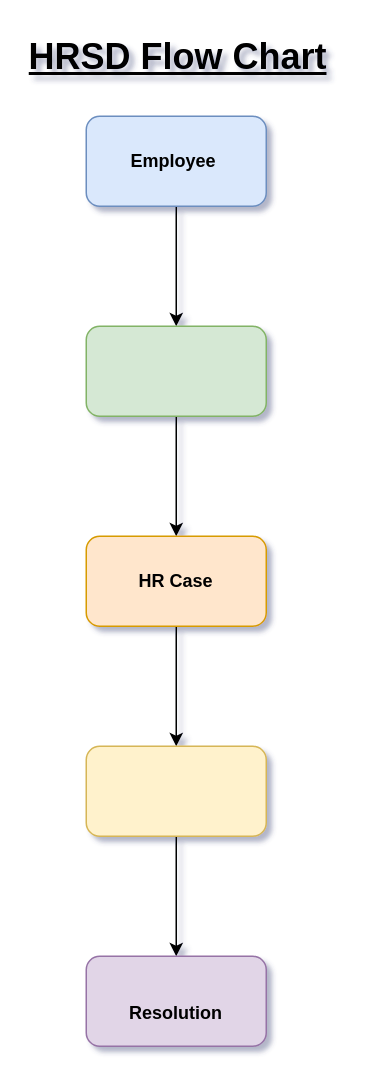
This 375x1082 diagram has some shape labels left out. The shapes that lost their labels are listed below. From the top down, each one's centre as x and y in pixels, then its label:
At pixel 175 370: "Portal".
At pixel 175 790: "Workflow".
